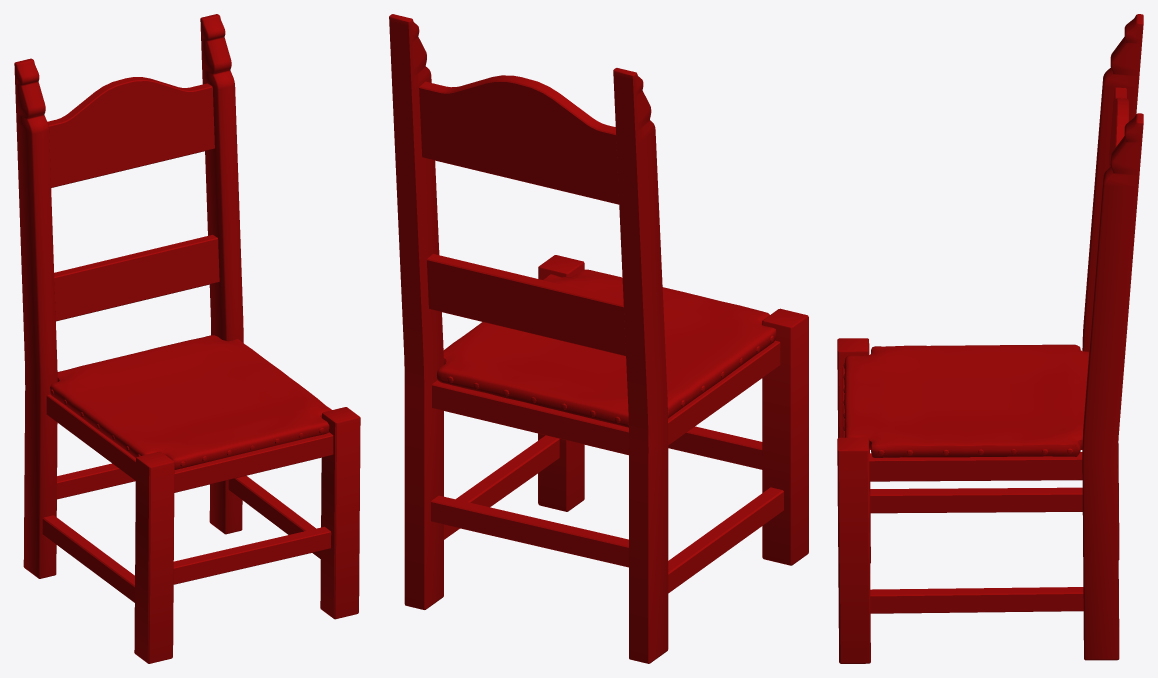
Rendered from SM_Chair_02.fbx.
The picture shows the model from 3 angles, left to right: view 1: azimuth 30°, elevation 25°; view 2: azimuth 150°, elevation 25°; view 3: azimuth 270°, elevation 25°; orthographic projection. The views are drawn at different scales.
Parts seen in each view (by area): view 1: SM_Chair_02; view 2: SM_Chair_02; view 3: SM_Chair_02.
Part boxes in pixels (box(x1,y1,x2,y2)): SM_Chair_02: box(14, 14, 360, 663); SM_Chair_02: box(389, 14, 808, 663); SM_Chair_02: box(837, 14, 1143, 663).
Bounding box in the file's own units: 56.18 × 64.77 × 126.
